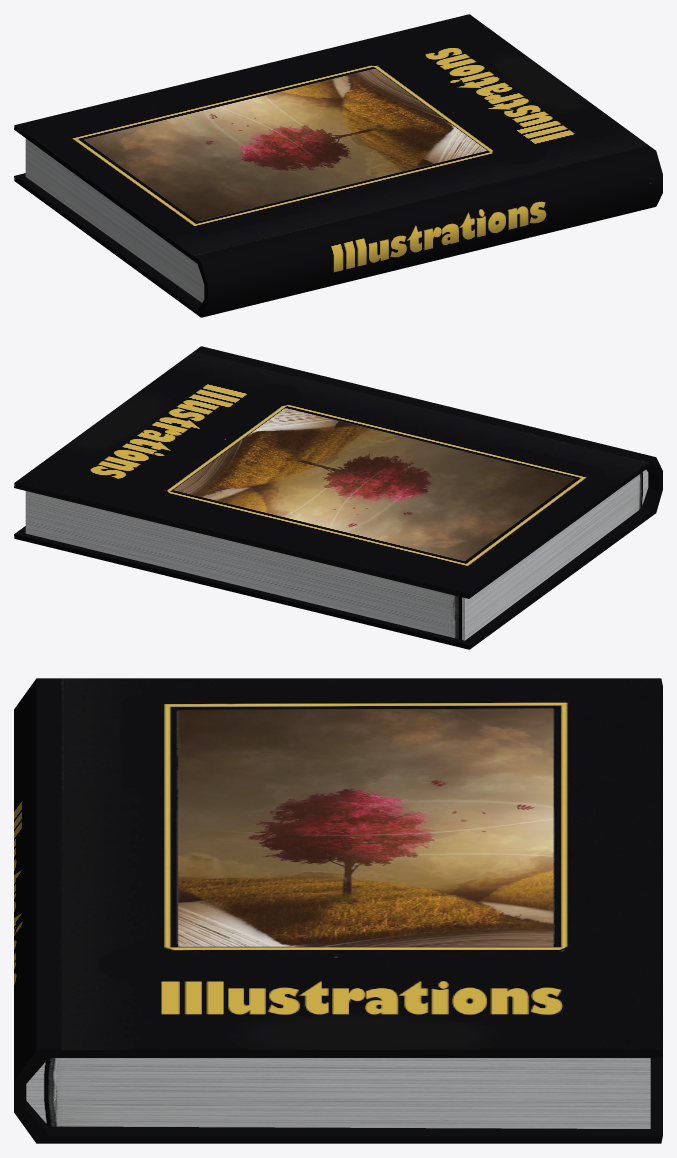
Rendered from Book 2.FBX.
3 views of the same model, one above another, from view 1: azimuth 30°, elevation 25°; view 2: azimuth 150°, elevation 25°; view 3: azimuth 270°, elevation 25° (orthographic). The views are drawn at different scales.
Visible parts, largest first — view 1: Book 2; view 2: Book 2; view 3: Book 2.
Boxes of the visible parts, <box> form: Book 2: <box>14,14,662,317</box>; Book 2: <box>14,346,662,649</box>; Book 2: <box>14,678,662,1143</box>.
Bounding box in the file's own units: 25.09 × 2.95 × 18.52.
1 material, 1 textured.
